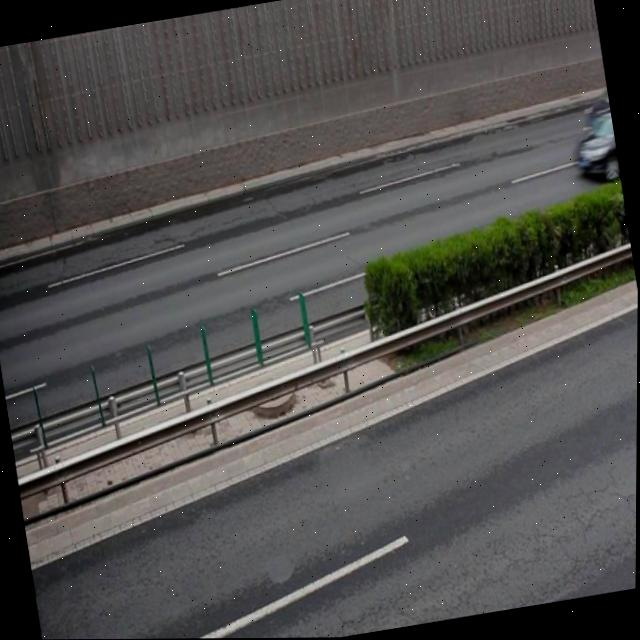car: (566, 109, 622, 187), (578, 79, 615, 141)
